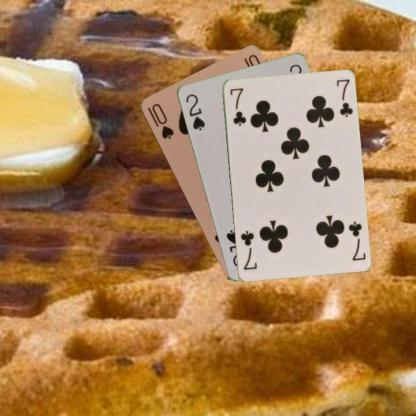10s: (145, 101, 176, 140)
2s: (182, 90, 206, 132)
7c: (346, 218, 366, 262), (227, 85, 247, 127)
